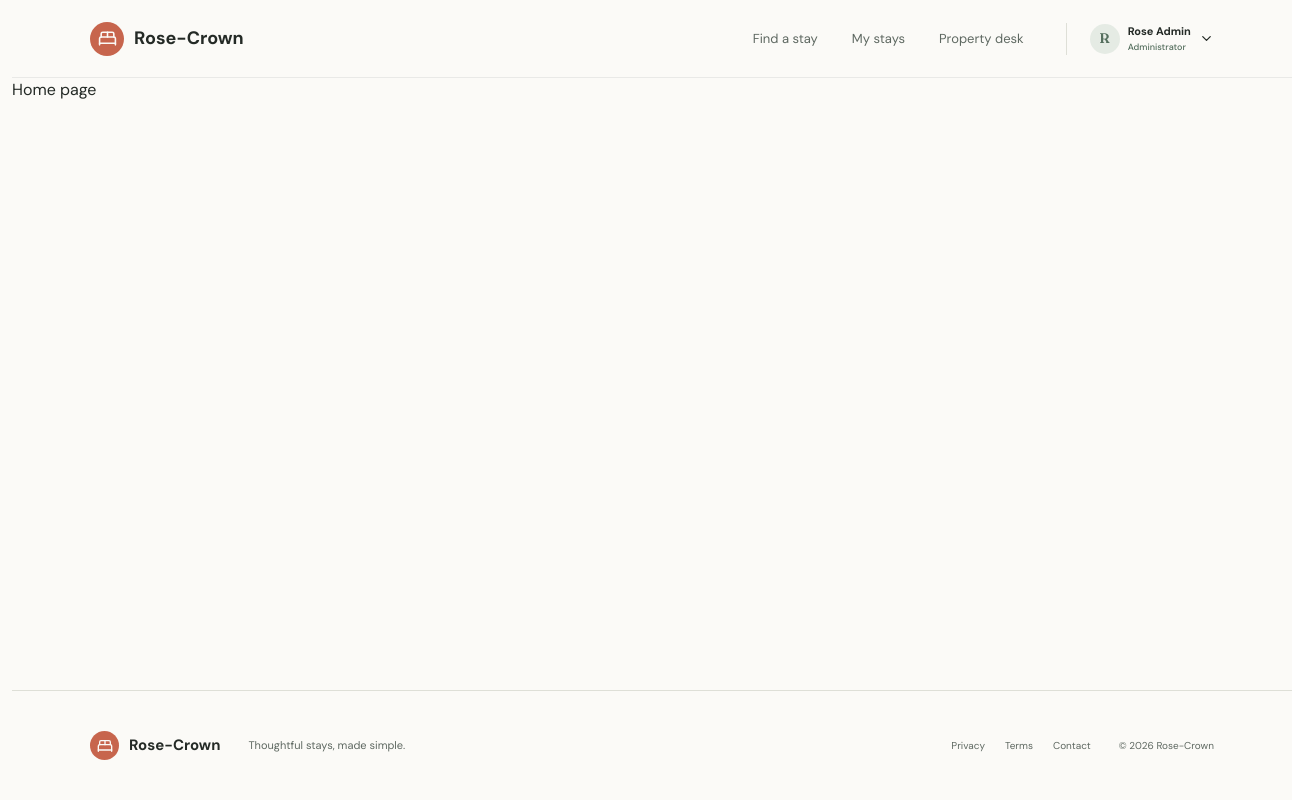
Scenario: signed-in account menu › signs out and returns to the home page
This screenshot has width=1292, height=800.
Click the button with aria-label "Open account menu". click: click(1152, 38)
box: [1090,22,1214,54]
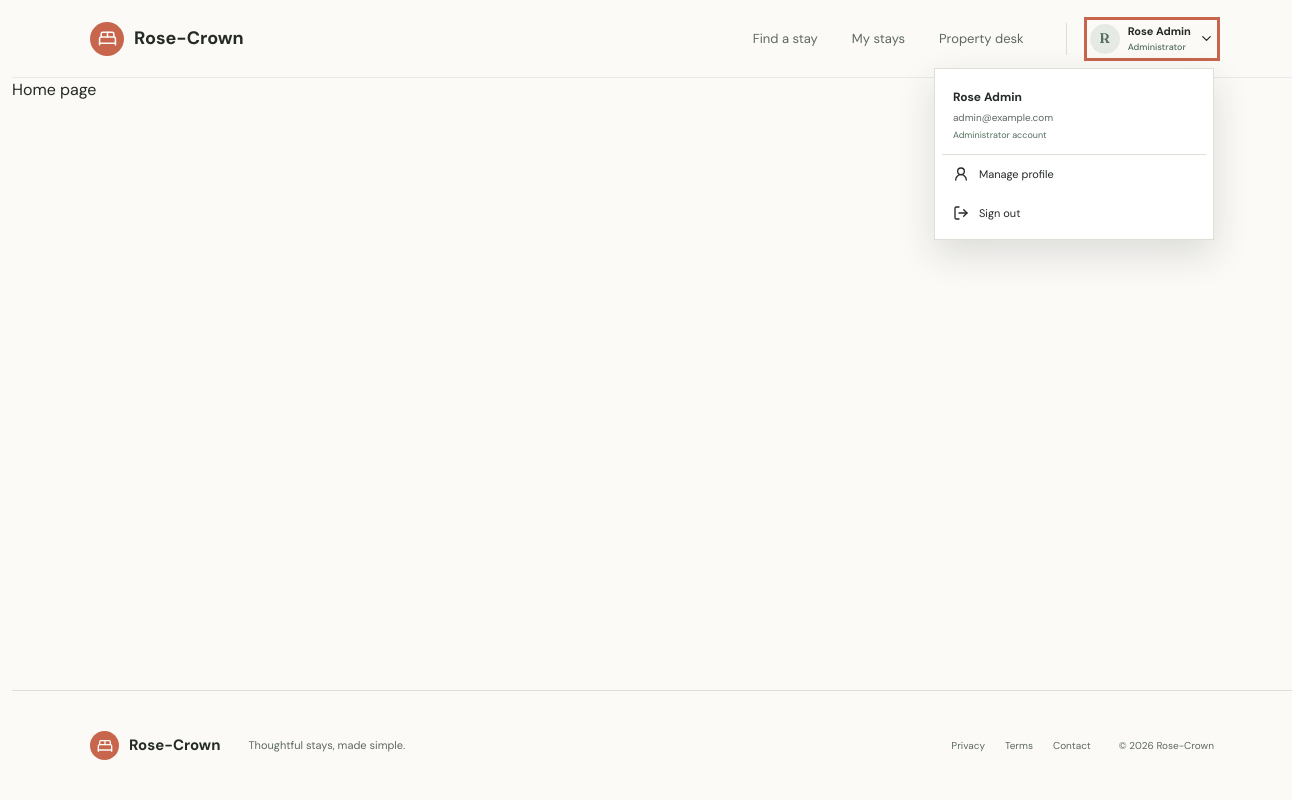
Click the menu item "Sign out". click: click(1000, 212)
box: [942,194,1206,232]
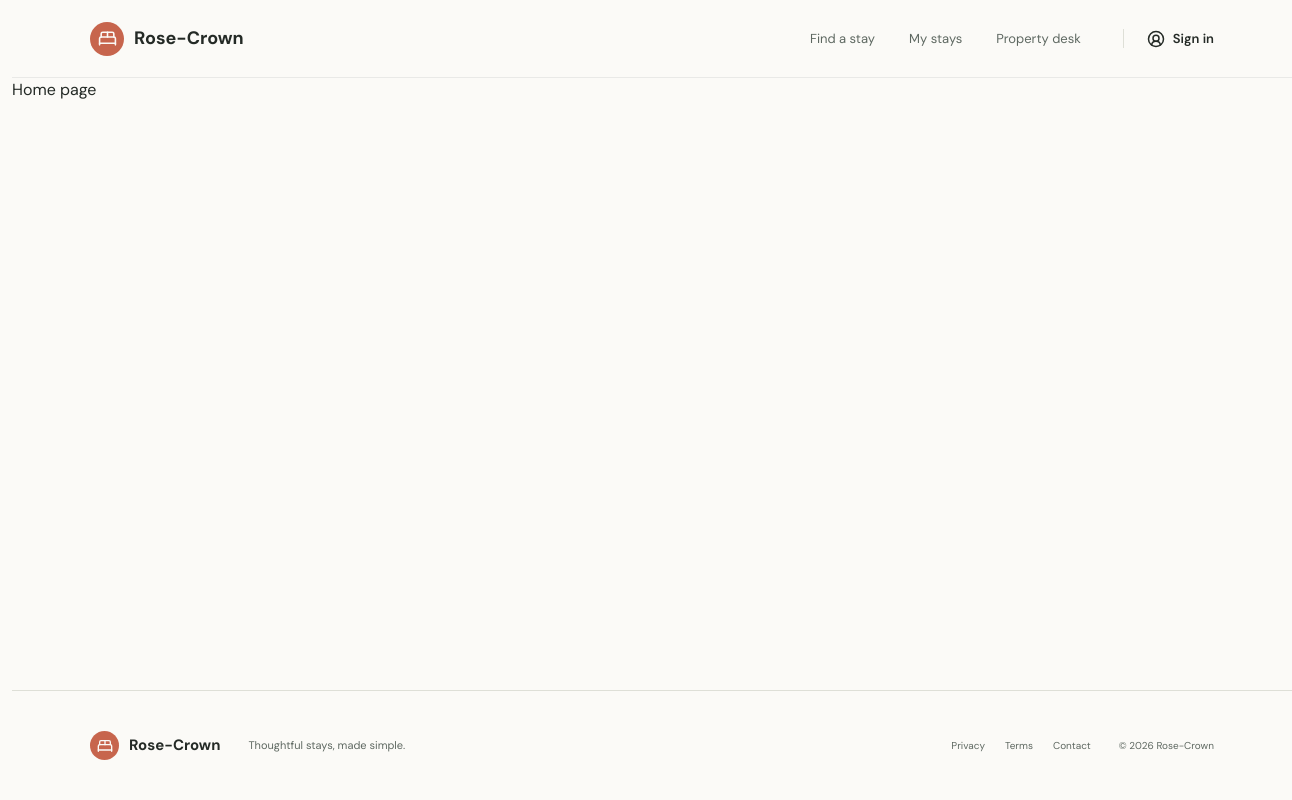
Expected: the text "Home page" is shown, [12,79,96,100]
Expected: the link "Sign in" is shown, [1123,29,1214,48]
